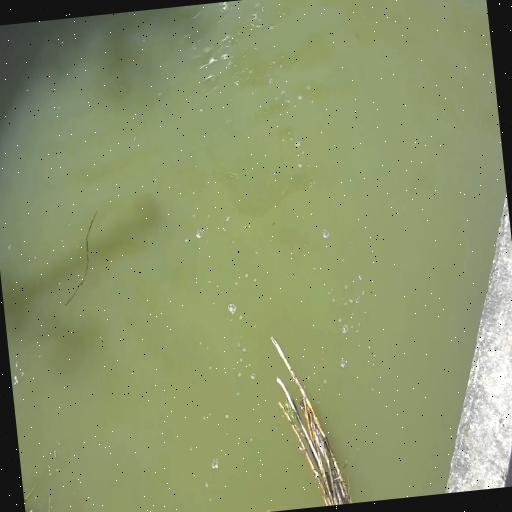twig: (264, 310, 366, 510), (24, 489, 66, 512)
